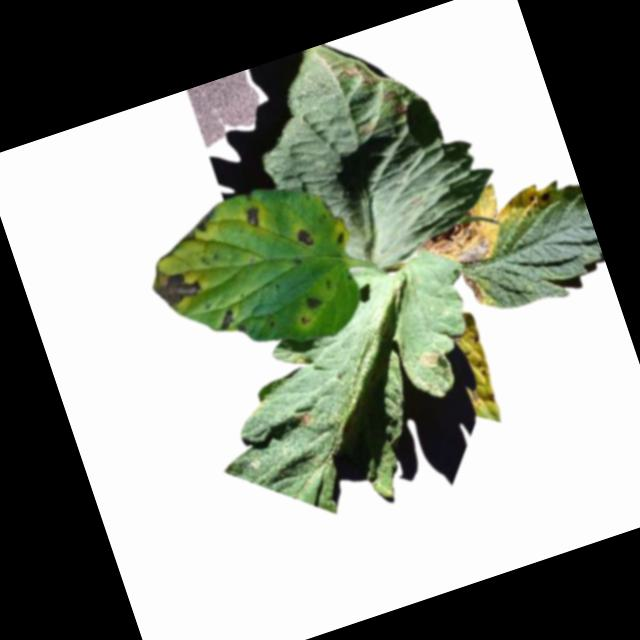Early_blight: (413, 204, 500, 278), (147, 255, 206, 312), (339, 53, 381, 93), (211, 299, 248, 339), (468, 377, 502, 412), (462, 267, 488, 308), (190, 203, 223, 235), (380, 86, 407, 119), (419, 343, 444, 370), (294, 223, 319, 249), (241, 205, 262, 229), (534, 186, 556, 206), (303, 290, 324, 310), (296, 407, 314, 427), (333, 229, 347, 245)
